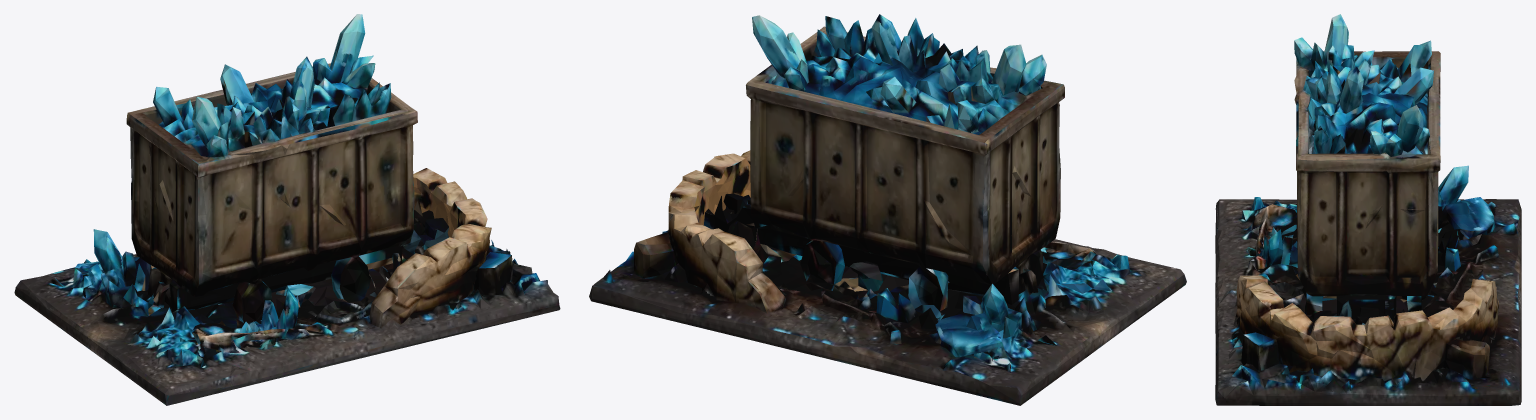
File: crystal-shard-heap.glb
3 views of the same model, side by side, from view 1: azimuth 30°, elevation 25°; view 2: azimuth 150°, elevation 25°; view 3: azimuth 270°, elevation 25° (orthographic). The views are drawn at different scales.
Visible parts, largest first — view 1: tmpox_42i0r.ply; view 2: tmpox_42i0r.ply; view 3: tmpox_42i0r.ply.
Part boxes in pixels (bbox=[...]): tmpox_42i0r.ply: bbox=[14, 14, 560, 405]; tmpox_42i0r.ply: bbox=[589, 14, 1186, 405]; tmpox_42i0r.ply: bbox=[1215, 14, 1521, 405].
Size of the model in its own units: 3 by 1.8 by 2.
Materials: 1 (1 with a texture image).
